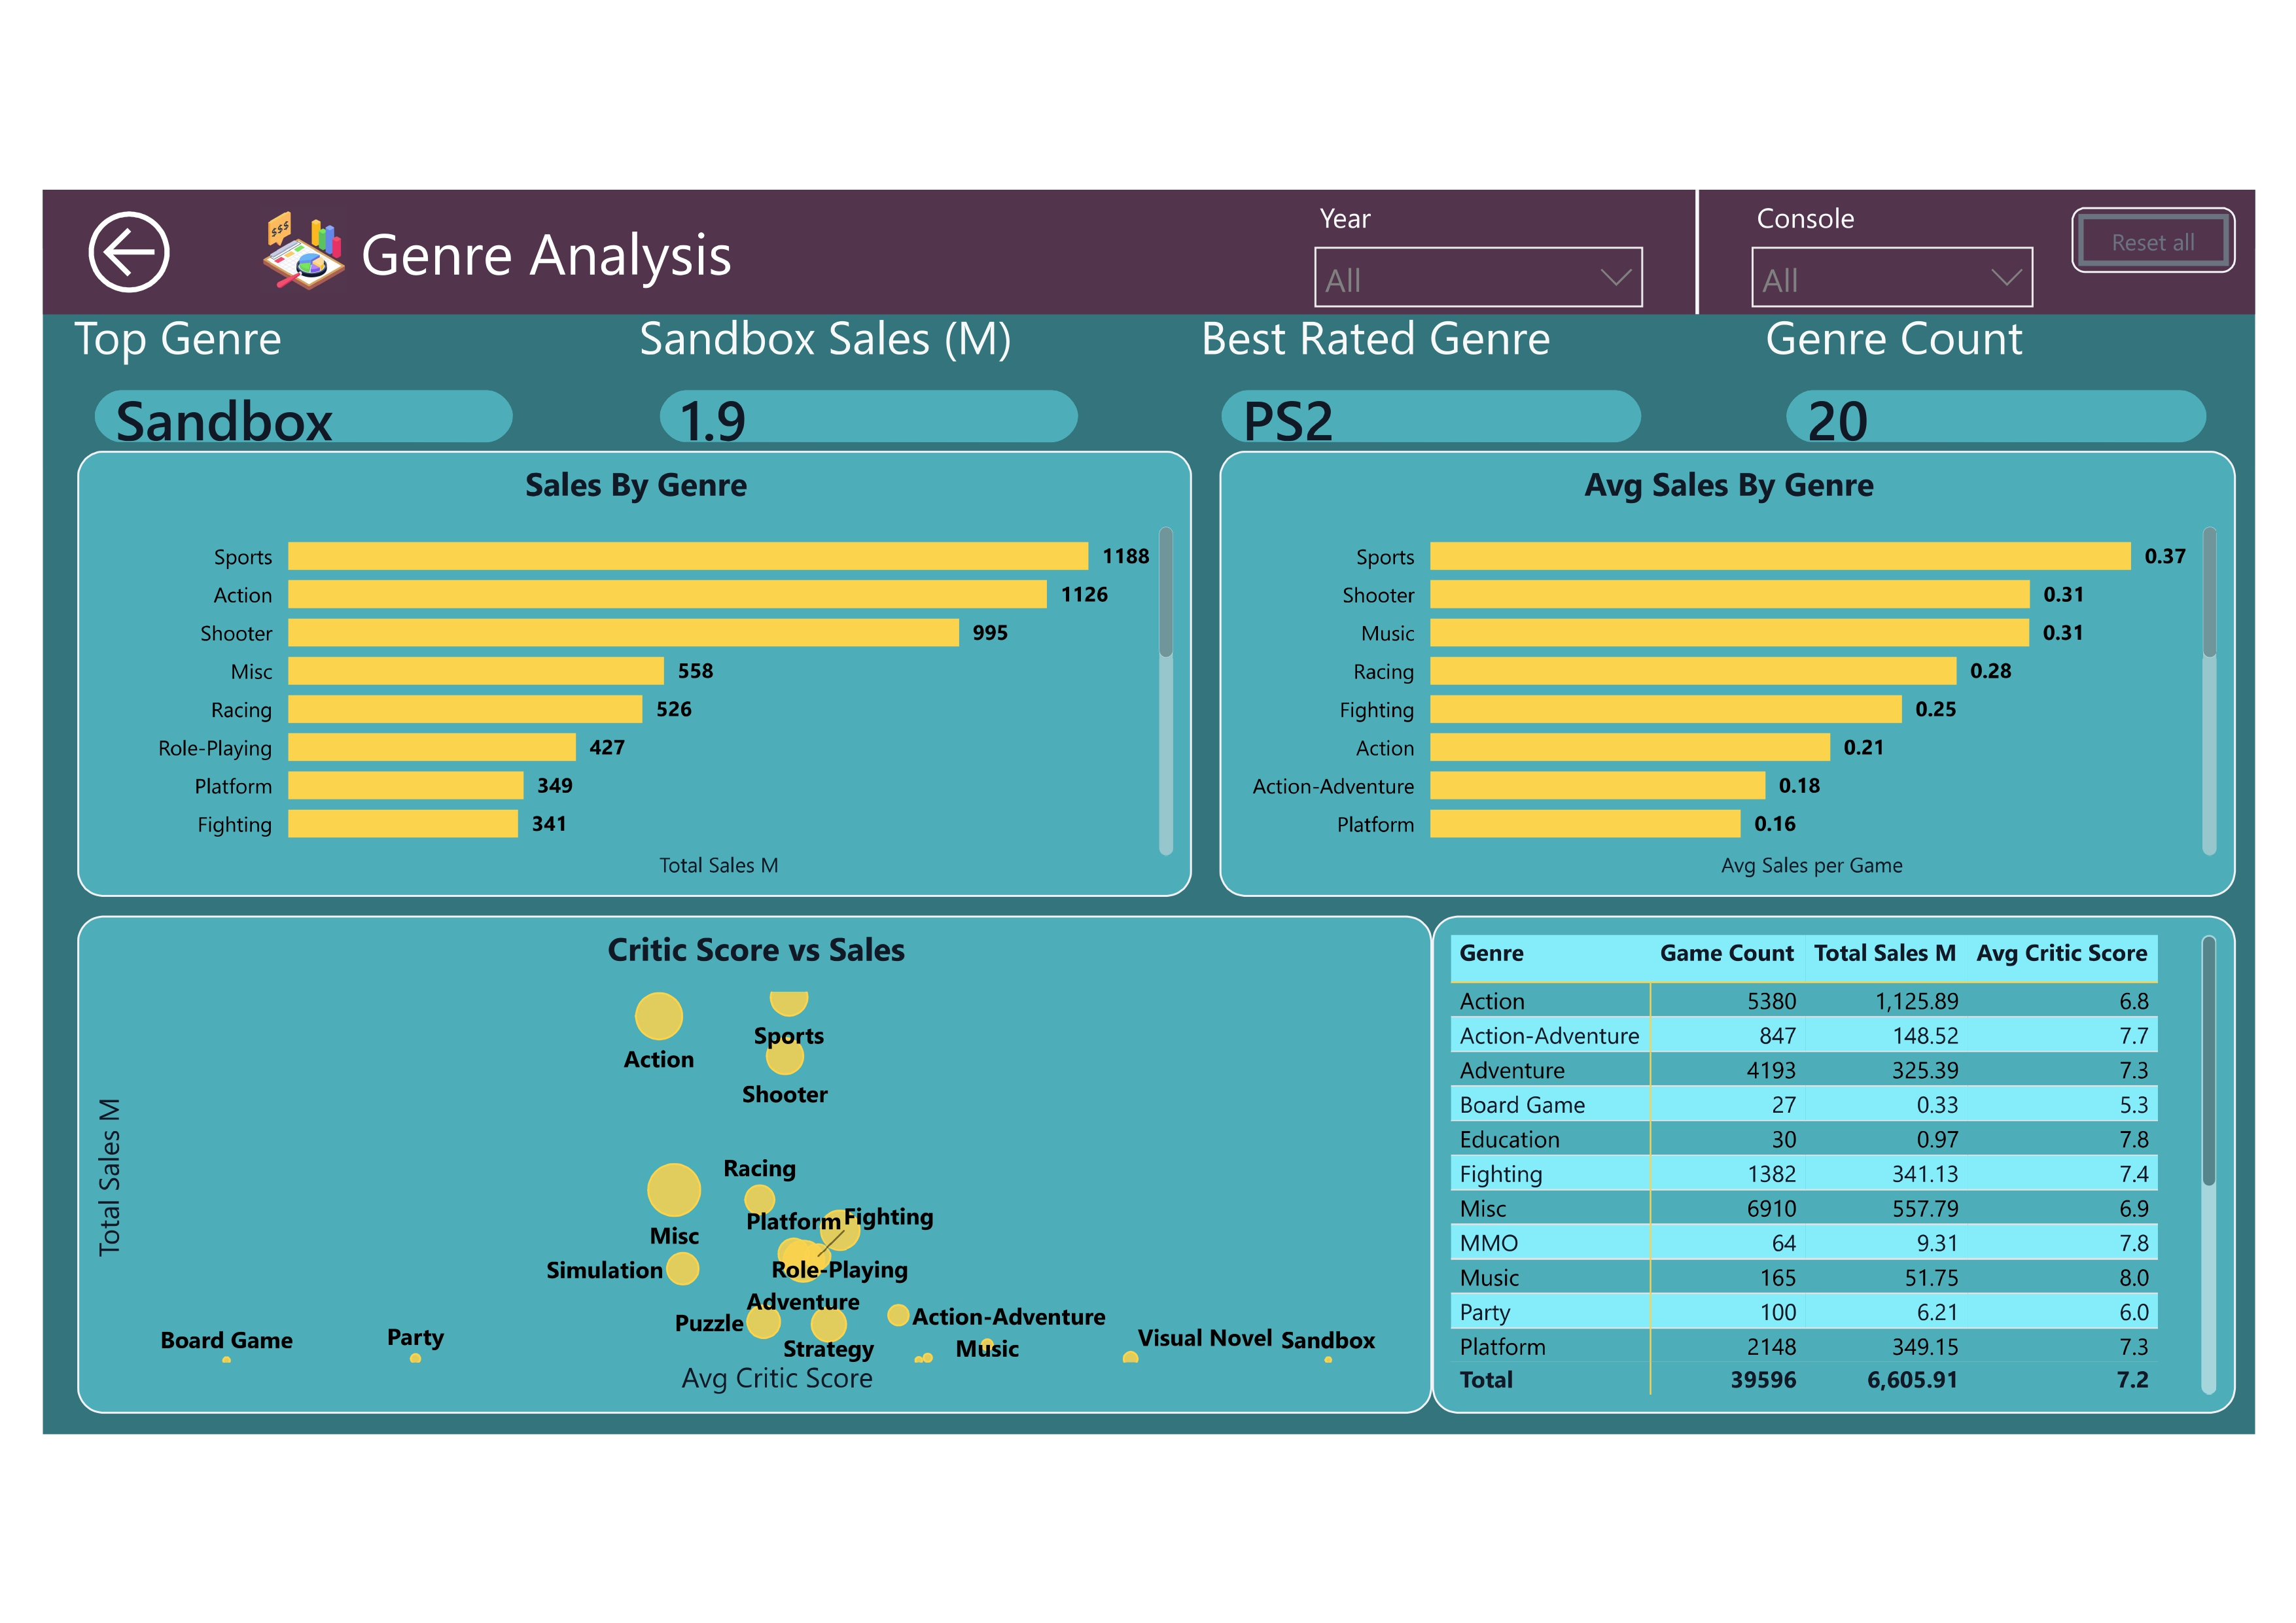

The dashboard page shown, as its layout file describes it:
{"tool":"powerbi","page":{"name":"Genre Analysis","canvas":[1280,720],"ordinal":3},"visuals":[{"type":"shape","box":[0,0,1280,72],"z":0},{"type":"shape","box":[184.3,10.1,226.1,50.4],"z":1000},{"type":"image","box":[115,10.1,72,50.4],"z":2000},{"type":"actionButton","box":[20.2,5.8,79.2,60.5],"z":3000},{"type":"slicer","fields":{"Values":["DateTable.Year"]},"box":[725.8,0,210.2,72],"z":4000},{"type":"slicer","fields":{"Values":["Games.console"]},"box":[979.2,0,182.9,72],"z":5000},{"type":"shape","box":[928.8,0,57.6,72],"z":6000},{"type":"actionButton","title":"Reset","box":[1173.6,10.1,95,37.4],"z":7000},{"type":"cardVisual","title":"Top Genre","fields":{"Data":["Text Card.Top Genre"]},"box":[13,66.2,276.5,96.5],"z":8000},{"type":"cardVisual","title":"Sandbox Sales (M)","fields":{"Data":["_Measure.Action Sales M"]},"box":[339.8,66.2,276.5,96.5],"z":9000},{"type":"cardVisual","title":"Best Rated Genre","fields":{"Data":["Text Card.Top Platform"]},"box":[665.3,66.2,276.5,96.5],"z":10000},{"type":"cardVisual","title":"Genre Count","fields":{"Data":["Count(Games.genre)"]},"box":[992.2,66.2,276.5,96.5],"z":11000},{"type":"barChart","title":"Sales By Genre","fields":{"Y":["_Measure.Total Sales M"],"Category":["Games.genre"]},"box":[20.2,151.2,645.1,257.8],"z":12000},{"type":"barChart","title":"Avg Sales By Genre","fields":{"Category":["Games.genre"],"Y":["_Measure.Avg Sales per Game"]},"box":[681.1,151.2,587.5,257.8],"z":12001},{"type":"scatterChart","title":"Critic Score vs Sales","fields":{"X":["_Measure.Avg Critic Score"],"Y":["_Measure.Total Sales M"],"Category":["Games.genre"],"Size":["_Measure.Game Count"]},"box":[20.2,420.5,783.4,288],"z":12002},{"type":"pivotTable","fields":{"Rows":["Games.genre"],"Values":["_Measure.Game Count","_Measure.Total Sales M","_Measure.Avg Critic Score"]},"box":[803.5,420.5,465.1,288],"z":12003}]}

Visuals, with their boxes on the page's 1280x720 design canvas (x1, y1, x2, y2). These are canvas units, not pixel positions in the 2296x1623 screenshot, which may show the page scaled, cropped or inside an application window:
shape: {"x1": 0, "y1": 0, "x2": 1280, "y2": 72}
shape: {"x1": 184, "y1": 10, "x2": 410, "y2": 60}
image: {"x1": 115, "y1": 10, "x2": 187, "y2": 60}
actionButton: {"x1": 20, "y1": 6, "x2": 99, "y2": 66}
slicer - DateTable.Year: {"x1": 726, "y1": 0, "x2": 936, "y2": 72}
slicer - Games.console: {"x1": 979, "y1": 0, "x2": 1162, "y2": 72}
shape: {"x1": 929, "y1": 0, "x2": 986, "y2": 72}
"Reset" actionButton: {"x1": 1174, "y1": 10, "x2": 1269, "y2": 48}
"Top Genre" cardVisual: {"x1": 13, "y1": 66, "x2": 290, "y2": 163}
"Sandbox Sales (M)" cardVisual: {"x1": 340, "y1": 66, "x2": 616, "y2": 163}
"Best Rated Genre" cardVisual: {"x1": 665, "y1": 66, "x2": 942, "y2": 163}
"Genre Count" cardVisual: {"x1": 992, "y1": 66, "x2": 1269, "y2": 163}
"Sales By Genre" barChart: {"x1": 20, "y1": 151, "x2": 665, "y2": 409}
"Avg Sales By Genre" barChart: {"x1": 681, "y1": 151, "x2": 1269, "y2": 409}
"Critic Score vs Sales" scatterChart: {"x1": 20, "y1": 420, "x2": 804, "y2": 708}
pivotTable - Games.genre x _Measure.Game Count: {"x1": 804, "y1": 420, "x2": 1269, "y2": 708}
